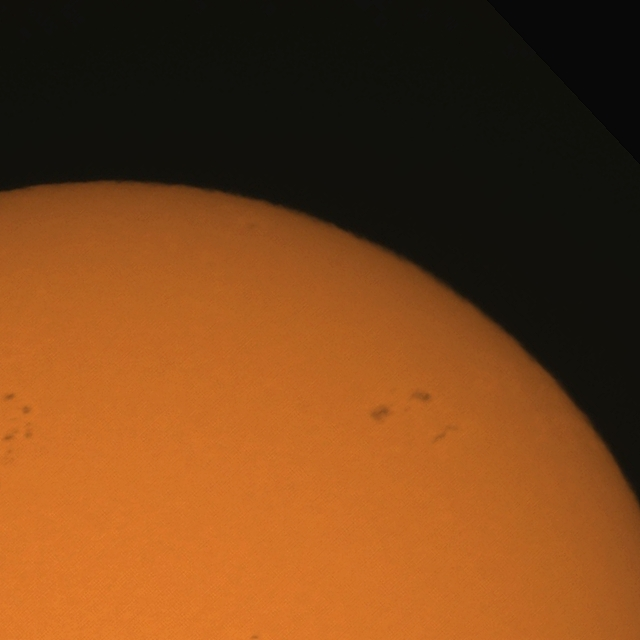sunspot: (1, 392, 31, 417), (1, 392, 16, 404), (21, 404, 31, 416)
